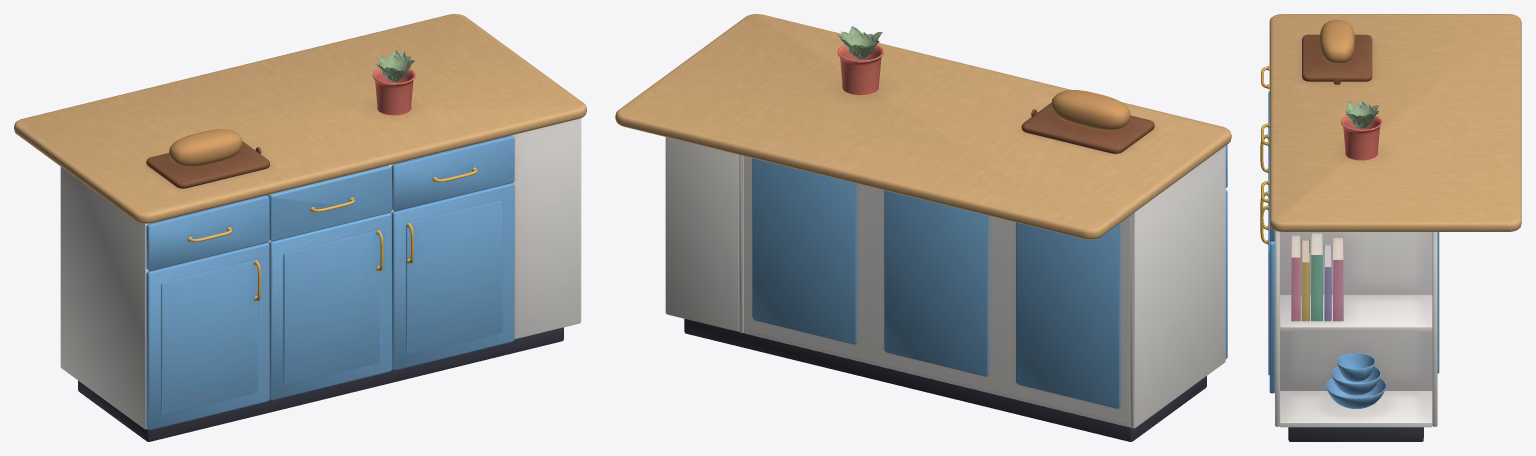
Rendered from kitchen-island-light.glb.
The picture shows the model from 3 angles, left to right: view 1: azimuth 30°, elevation 25°; view 2: azimuth 150°, elevation 25°; view 3: azimuth 270°, elevation 25°; orthographic projection. The views are drawn at different scales.
Visible parts, largest first — view 1: kitchen-island_body, kitchen-island_drawer; view 2: kitchen-island_body; view 3: kitchen-island_body.
Boxes of the visible parts, x1=… form: kitchen-island_body: x1=14, y1=14, x2=586, y2=441; kitchen-island_drawer: x1=266, y1=165, x2=391, y2=241; kitchen-island_body: x1=615, y1=14, x2=1231, y2=441; kitchen-island_body: x1=1260, y1=14, x2=1521, y2=441.
Size of the model in its own units: 1.84 by 1.12 by 0.9635.
Materials: 2 (2 with a texture image).
